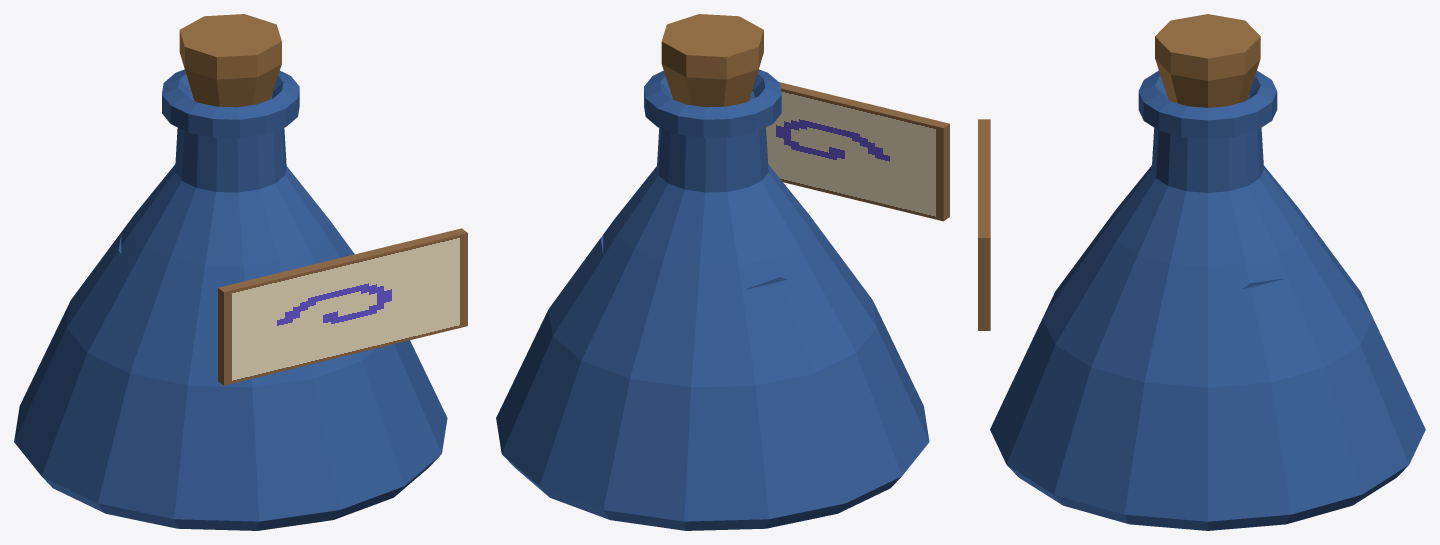
File: ether_flask.obj
The picture shows the model from 3 angles, left to right: view 1: azimuth 30°, elevation 25°; view 2: azimuth 150°, elevation 25°; view 3: azimuth 270°, elevation 25°; orthographic projection.
Parts seen in each view (by area): view 1: A_Flask.001_ether_flask_glass, C_Label.001_ether_flask_label, S_Cork.001_ether_flask_cork; view 2: A_Flask.001_ether_flask_glass, C_Label.001_ether_flask_label, S_Cork.001_ether_flask_cork; view 3: A_Flask.001_ether_flask_glass, S_Cork.001_ether_flask_cork, C_Label.001_ether_flask_label.
Boxes of the visible parts, left/top/right/bottom form: A_Flask.001_ether_flask_glass: left=14, top=69, right=447, bottom=530; C_Label.001_ether_flask_label: left=218, top=228, right=467, bottom=385; S_Cork.001_ether_flask_cork: left=179, top=14, right=281, bottom=107; A_Flask.001_ether_flask_glass: left=496, top=69, right=929, bottom=530; C_Label.001_ether_flask_label: left=766, top=82, right=949, bottom=221; S_Cork.001_ether_flask_cork: left=661, top=14, right=763, bottom=107; A_Flask.001_ether_flask_glass: left=990, top=70, right=1425, bottom=530; S_Cork.001_ether_flask_cork: left=1155, top=14, right=1260, bottom=107; C_Label.001_ether_flask_label: left=978, top=119, right=990, bottom=330.
Size of the model in its own units: 1.39 by 1.44 by 1.43.
Materials: 4 (1 with a texture image).
